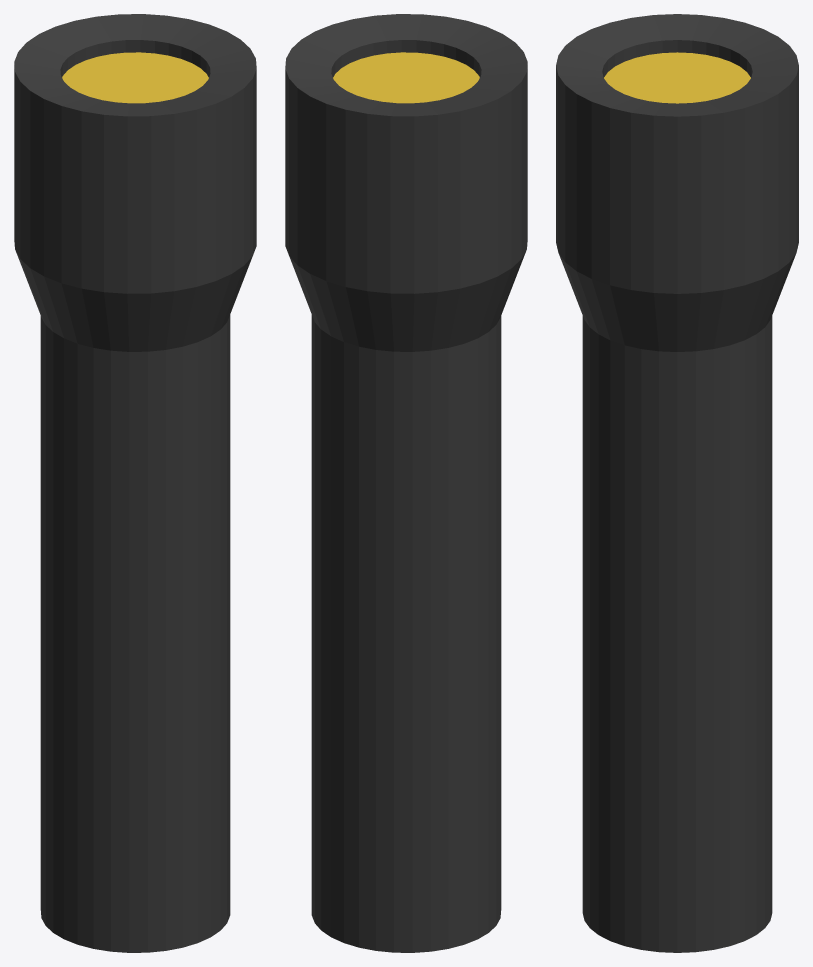
The model's file is flashlight.fbx.
3 views of the same model, side by side, from view 1: azimuth 30°, elevation 25°; view 2: azimuth 150°, elevation 25°; view 3: azimuth 270°, elevation 25° (orthographic).
Parts seen in each view (by area): view 1: Cube; view 2: Cube; view 3: Cube.
Boxes of the visible parts, left/top/right/bottom form: Cube: left=14, top=14, right=256, bottom=952; Cube: left=285, top=14, right=527, bottom=952; Cube: left=556, top=14, right=798, bottom=952.
Bounding box in the file's own units: 171 × 660 × 171.
